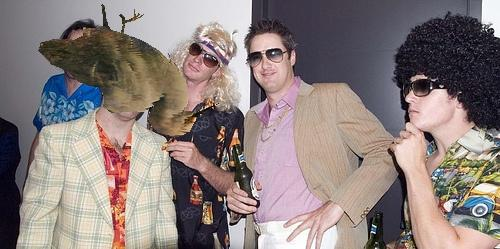tampered: (39, 5, 220, 137)
